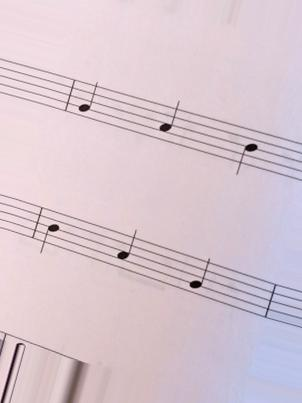A: (156, 97, 183, 153), (114, 224, 140, 282)
B: (233, 120, 260, 182), (38, 200, 64, 259)
G: (187, 250, 214, 311), (74, 74, 101, 129)
